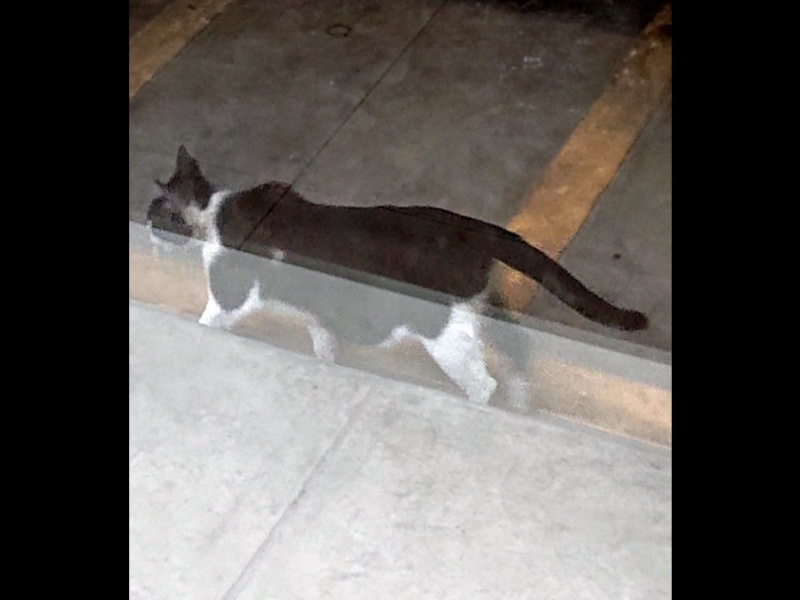cat: (143, 147, 650, 418)
